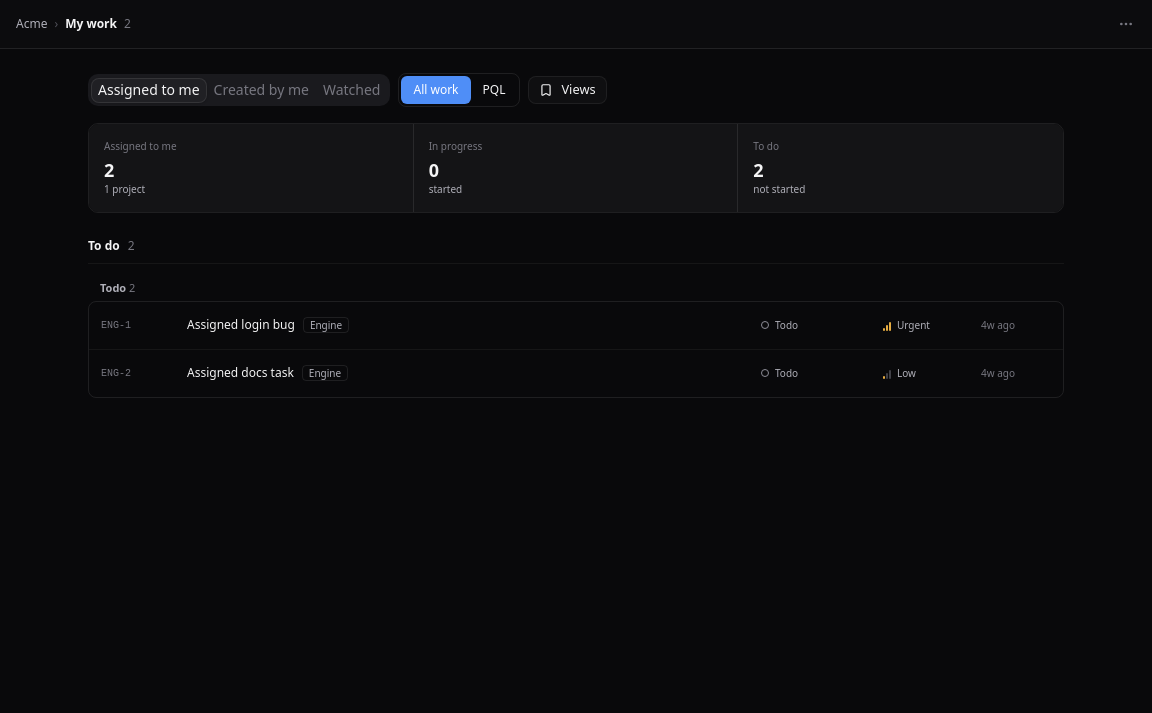
it: mywork saved views (C113T1) › leaving PQL mode after a view apply clears the query and restores the full set
Expected: the text "Assigned login bug" is shown, [187,316,295,334]
Expected: the text "Assigned docs task" is shown, [187,364,294,382]
Click the button with aria-label "Saved views".
click(567, 90)  # box [528,76,606,104]
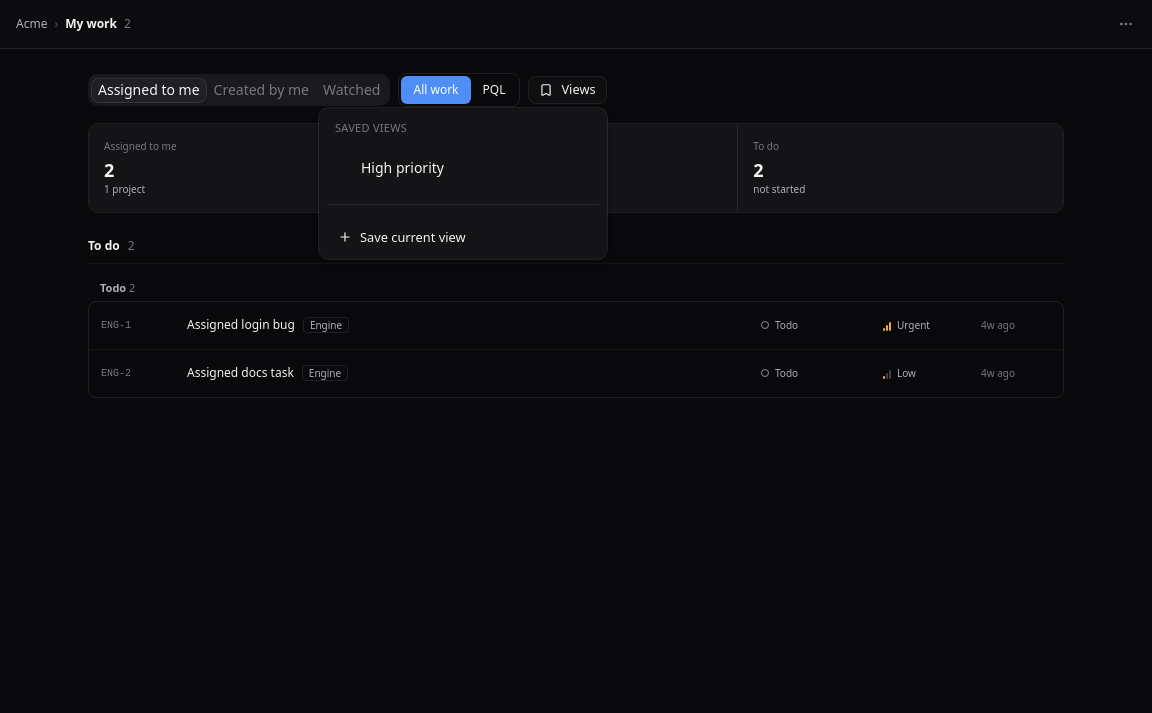
Expected: the text "High priority" is shown, [361,158,444,178]
Click the button titled "Apply view “High priority”".
click(403, 168)  # box [331,152,475,184]
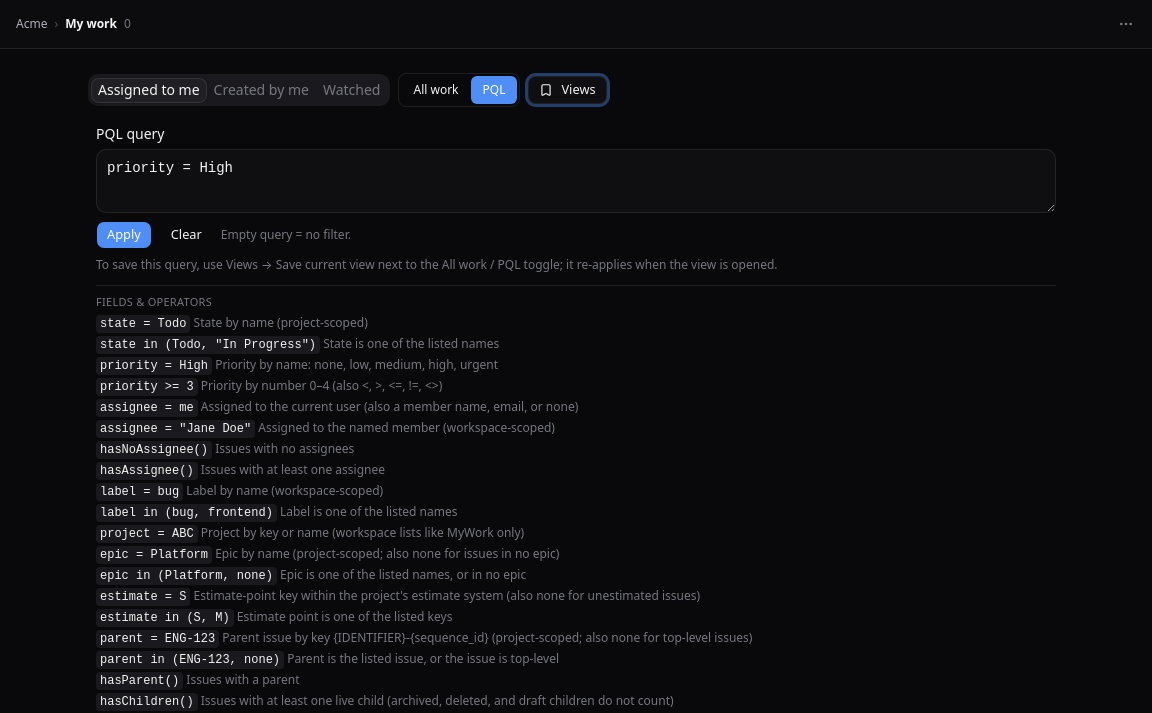
Expected: the link "Assigned docs task" is gone
Expected: the text box labelled "PQL query" holds "priority = High", [96,149,1056,213]
Click the button "All work".
click(436, 90)  # box [402,76,470,104]
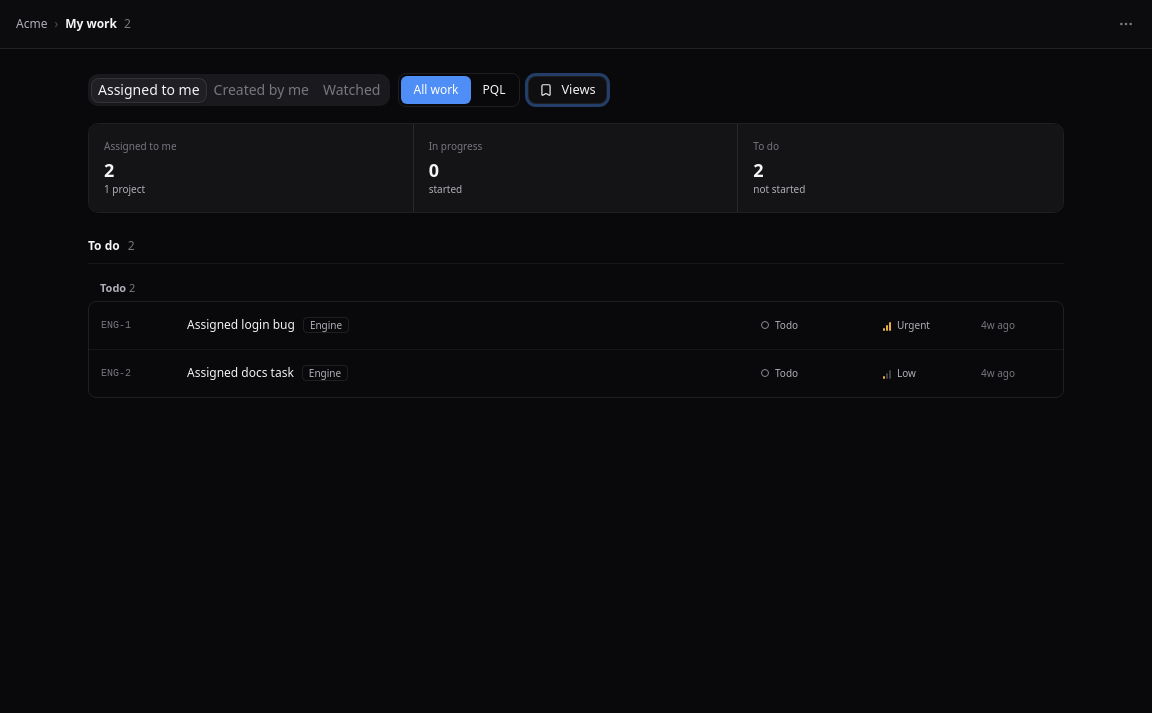
Expected: the text "Assigned docs task" is shown, [187,364,294,382]
Expected: the text "Assigned login bug" is shown, [187,316,295,334]
Expected: the label labelled "PQL query" is gone
